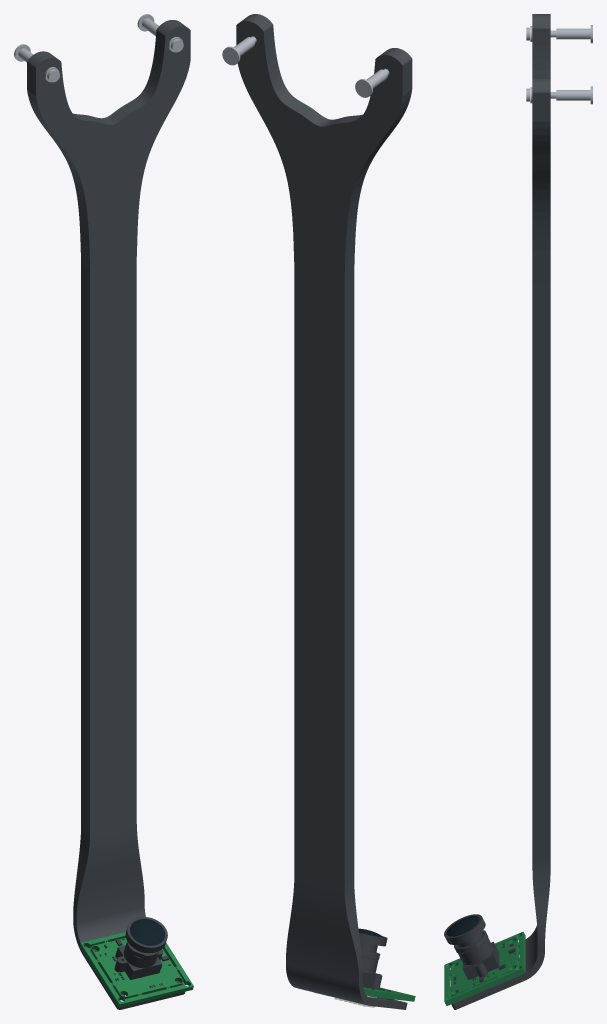
File: camera-mast-18in-v8.glb
3 renders of one model, left to right at view 1: azimuth 30°, elevation 25°; view 2: azimuth 150°, elevation 25°; view 3: azimuth 270°, elevation 25°, orthographic. The views are drawn at different scales.
Visible parts, largest first — view 1: CAMERA_Continuous_camera_mast_camera_export, ARDUCAM_B0261_OFFICIAL_135_camera_export, ARDUCAM_B0261_OFFICIAL_132_camera_export, ARDUCAM_B0261_OFFICIAL_137_camera_export, ARDUCAM_B0261_OFFICIAL_138_camera_export; view 2: CAMERA_Continuous_camera_mast_camera_export; view 3: CAMERA_Continuous_camera_mast_camera_export, ARDUCAM_B0261_OFFICIAL_135_camera_export, ARDUCAM_B0261_OFFICIAL_132_camera_export, ARDUCAM_B0261_OFFICIAL_138_camera_export, Custom M3 barrel nut - tap thread.001_camera_export, ARDUCAM_B0261_OFFICIAL_137_camera_export, Custom M3 barrel nut - tap thread_camera_export.
Part boxes in pixels (box(x1,y1,x2,y2)): CAMERA_Continuous_camera_mast_camera_export: box(27, 20, 190, 1009); ARDUCAM_B0261_OFFICIAL_135_camera_export: box(79, 932, 193, 1007); ARDUCAM_B0261_OFFICIAL_132_camera_export: box(115, 941, 162, 979); ARDUCAM_B0261_OFFICIAL_137_camera_export: box(130, 919, 164, 945); ARDUCAM_B0261_OFFICIAL_138_camera_export: box(125, 917, 167, 952); CAMERA_Continuous_camera_mast_camera_export: box(236, 14, 412, 1009); CAMERA_Continuous_camera_mast_camera_export: box(451, 14, 550, 1009); ARDUCAM_B0261_OFFICIAL_135_camera_export: box(444, 931, 525, 1005); ARDUCAM_B0261_OFFICIAL_132_camera_export: box(458, 938, 499, 980); ARDUCAM_B0261_OFFICIAL_138_camera_export: box(444, 914, 485, 947); Custom M3 barrel nut - tap thread.001_camera_export: box(556, 28, 590, 39); ARDUCAM_B0261_OFFICIAL_137_camera_export: box(446, 916, 479, 936); Custom M3 barrel nut - tap thread_camera_export: box(556, 90, 590, 100).
Size of the model in its own units: 0.0795 by 0.4583 by 0.0652.
